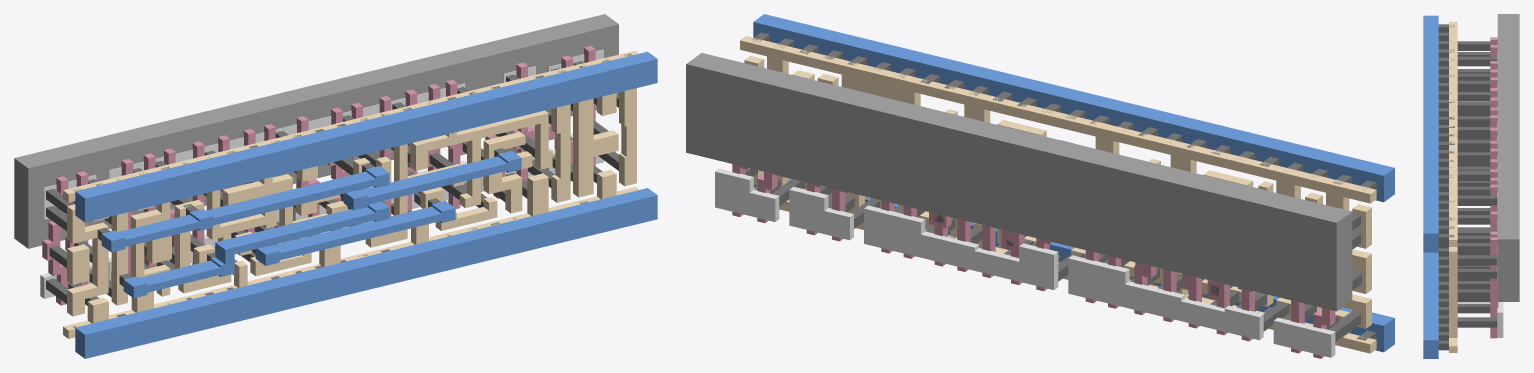
File: sky130_fd_sc_hd__dfbbp_1.gds.gltf
3 renders of one model, left to right at view 1: azimuth 30°, elevation 25°; view 2: azimuth 150°, elevation 25°; view 3: azimuth 270°, elevation 25°, orthographic. The views are drawn at different scales.
Visible parts, largest first — view 1: sky130_fd_sc_hd__dfbbp_1_met1, sky130_fd_sc_hd__dfbbp_1_li1, sky130_fd_sc_hd__dfbbp_1_nwell, sky130_fd_sc_hd__dfbbp_1_poly, sky130_fd_sc_hd__dfbbp_1_licon, sky130_fd_sc_hd__dfbbp_1_diff, sky130_fd_sc_hd__dfbbp_1_mcon; view 2: sky130_fd_sc_hd__dfbbp_1_nwell, sky130_fd_sc_hd__dfbbp_1_li1, sky130_fd_sc_hd__dfbbp_1_diff, sky130_fd_sc_hd__dfbbp_1_met1, sky130_fd_sc_hd__dfbbp_1_poly, sky130_fd_sc_hd__dfbbp_1_licon, sky130_fd_sc_hd__dfbbp_1_mcon; view 3: sky130_fd_sc_hd__dfbbp_1_licon, sky130_fd_sc_hd__dfbbp_1_nwell, sky130_fd_sc_hd__dfbbp_1_met1, sky130_fd_sc_hd__dfbbp_1_mcon, sky130_fd_sc_hd__dfbbp_1_li1, sky130_fd_sc_hd__dfbbp_1_poly, sky130_fd_sc_hd__dfbbp_1_diff.
Boxes of the visible parts, <box> form: sky130_fd_sc_hd__dfbbp_1_met1: <box>75,51,657,358</box>; sky130_fd_sc_hd__dfbbp_1_li1: <box>63,50,639,338</box>; sky130_fd_sc_hd__dfbbp_1_nwell: <box>14,14,618,248</box>; sky130_fd_sc_hd__dfbbp_1_poly: <box>42,46,595,305</box>; sky130_fd_sc_hd__dfbbp_1_licon: <box>46,61,618,305</box>; sky130_fd_sc_hd__dfbbp_1_diff: <box>40,49,603,298</box>; sky130_fd_sc_hd__dfbbp_1_mcon: <box>72,53,631,328</box>; sky130_fd_sc_hd__dfbbp_1_nwell: <box>686,53,1352,311</box>; sky130_fd_sc_hd__dfbbp_1_li1: <box>740,36,1376,353</box>; sky130_fd_sc_hd__dfbbp_1_diff: <box>715,168,1335,357</box>; sky130_fd_sc_hd__dfbbp_1_met1: <box>753,14,1394,352</box>; sky130_fd_sc_hd__dfbbp_1_poly: <box>732,164,1335,358</box>; sky130_fd_sc_hd__dfbbp_1_licon: <box>745,87,1361,341</box>; sky130_fd_sc_hd__dfbbp_1_mcon: <box>752,32,1376,340</box>; sky130_fd_sc_hd__dfbbp_1_licon: <box>1457,41,1497,327</box>; sky130_fd_sc_hd__dfbbp_1_nwell: <box>1497,14,1519,301</box>; sky130_fd_sc_hd__dfbbp_1_met1: <box>1423,15,1438,358</box>; sky130_fd_sc_hd__dfbbp_1_mcon: <box>1438,24,1454,350</box>; sky130_fd_sc_hd__dfbbp_1_li1: <box>1449,21,1457,352</box>; sky130_fd_sc_hd__dfbbp_1_poly: <box>1490,37,1498,338</box>; sky130_fd_sc_hd__dfbbp_1_diff: <box>1497,53,1503,337</box>.
Size of the model in its own units: 12.34 by 3.2 by 2.24.
